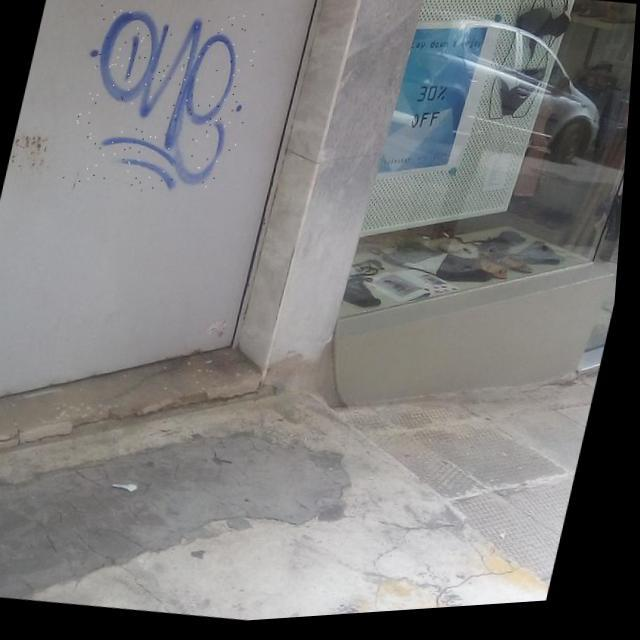-: (62, 0, 270, 208)
